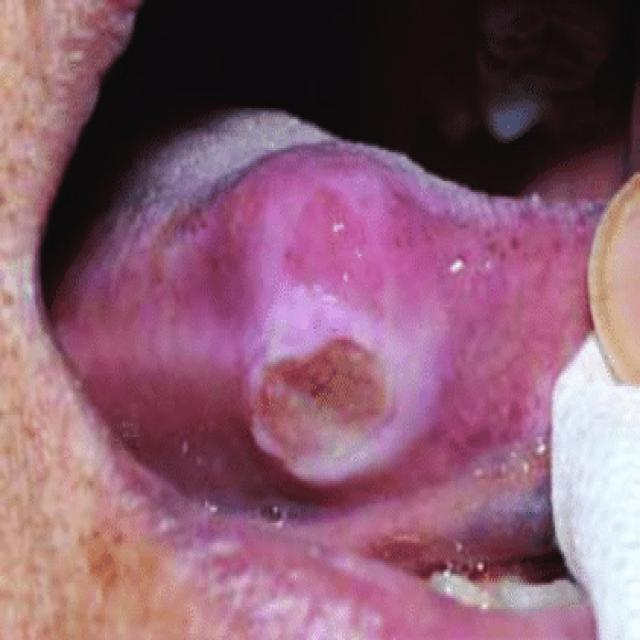Cancer: (162, 287, 532, 507)
